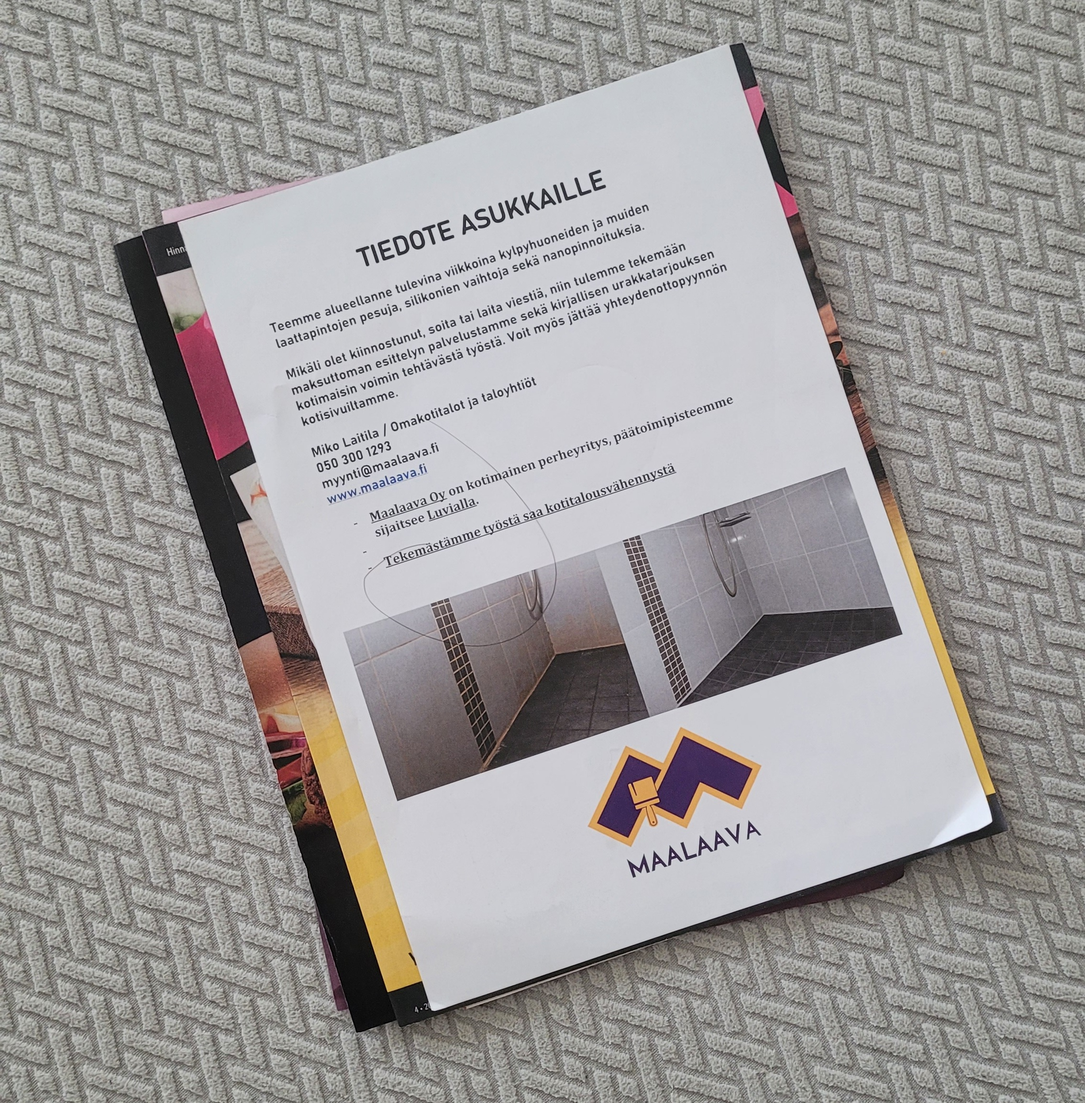paper: (103, 108, 1053, 1040)
